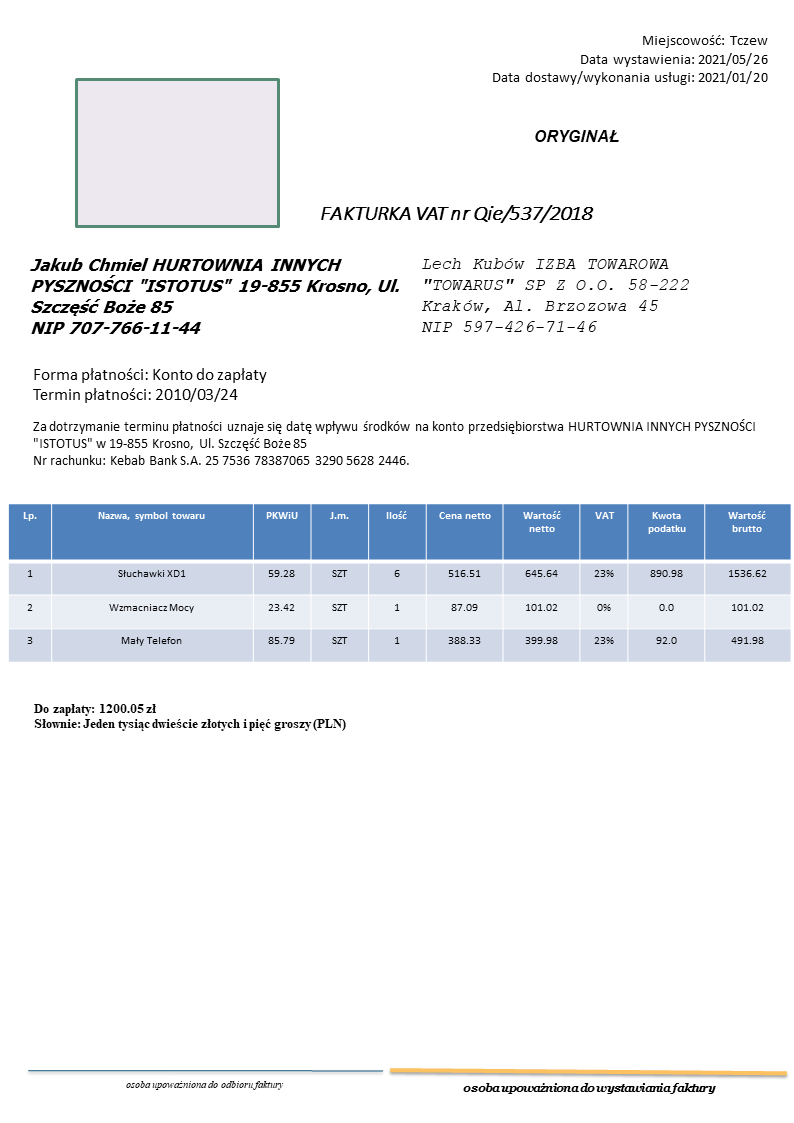Table: (7, 503, 790, 663)
TextBox: (29, 417, 760, 470), (26, 254, 402, 337), (418, 254, 693, 336), (489, 31, 771, 88), (30, 701, 350, 733), (29, 365, 268, 404), (317, 202, 595, 225), (461, 1079, 717, 1098), (124, 1077, 284, 1093), (531, 125, 620, 147)
